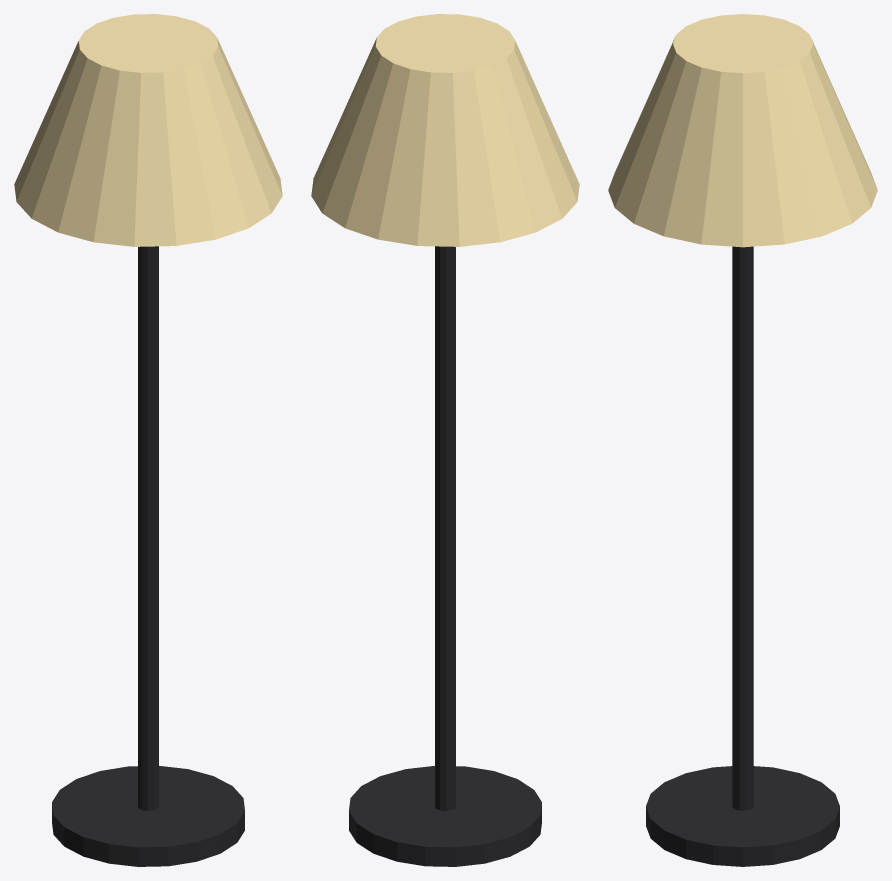
File: floor_lamp.glb
3 renders of one model, left to right at view 1: azimuth 30°, elevation 25°; view 2: azimuth 150°, elevation 25°; view 3: azimuth 270°, elevation 25°, orthographic.
Parts seen in each view (by area): view 1: Shade, Base, Pole; view 2: Shade, Base, Pole; view 3: Shade, Base, Pole.
Boxes of the visible parts, left/top/right/bottom form: Shade: left=14, top=14, right=282, bottom=246; Base: left=52, top=766, right=244, bottom=866; Pole: left=138, top=246, right=158, bottom=810; Shade: left=311, top=14, right=579, bottom=246; Base: left=349, top=766, right=541, bottom=866; Pole: left=435, top=246, right=455, bottom=810; Shade: left=608, top=14, right=877, bottom=247; Base: left=646, top=766, right=839, bottom=866; Pole: left=732, top=246, right=753, bottom=810.
Bounding box in the file's own units: 0.5 × 1.6 × 0.5.
